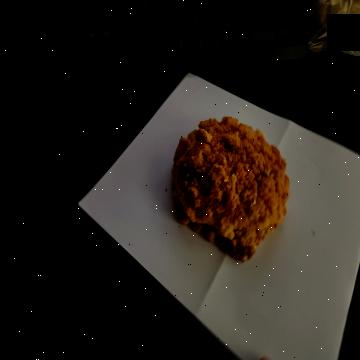soboru_bread: (172, 115, 294, 266)
